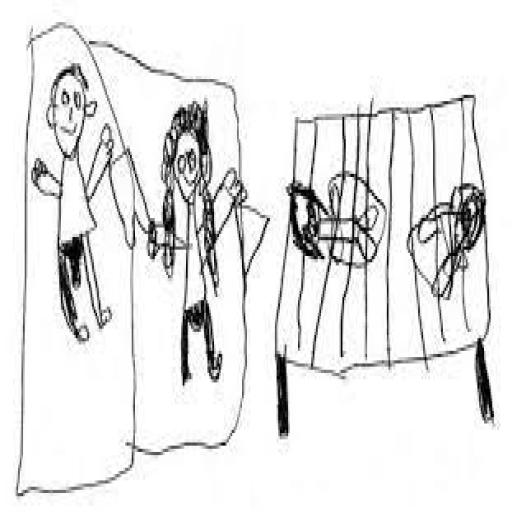person: (146, 98, 250, 392), (29, 59, 117, 352), (283, 159, 387, 297), (405, 172, 493, 306)
